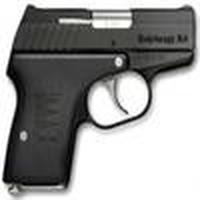gun: (2, 4, 199, 184)
